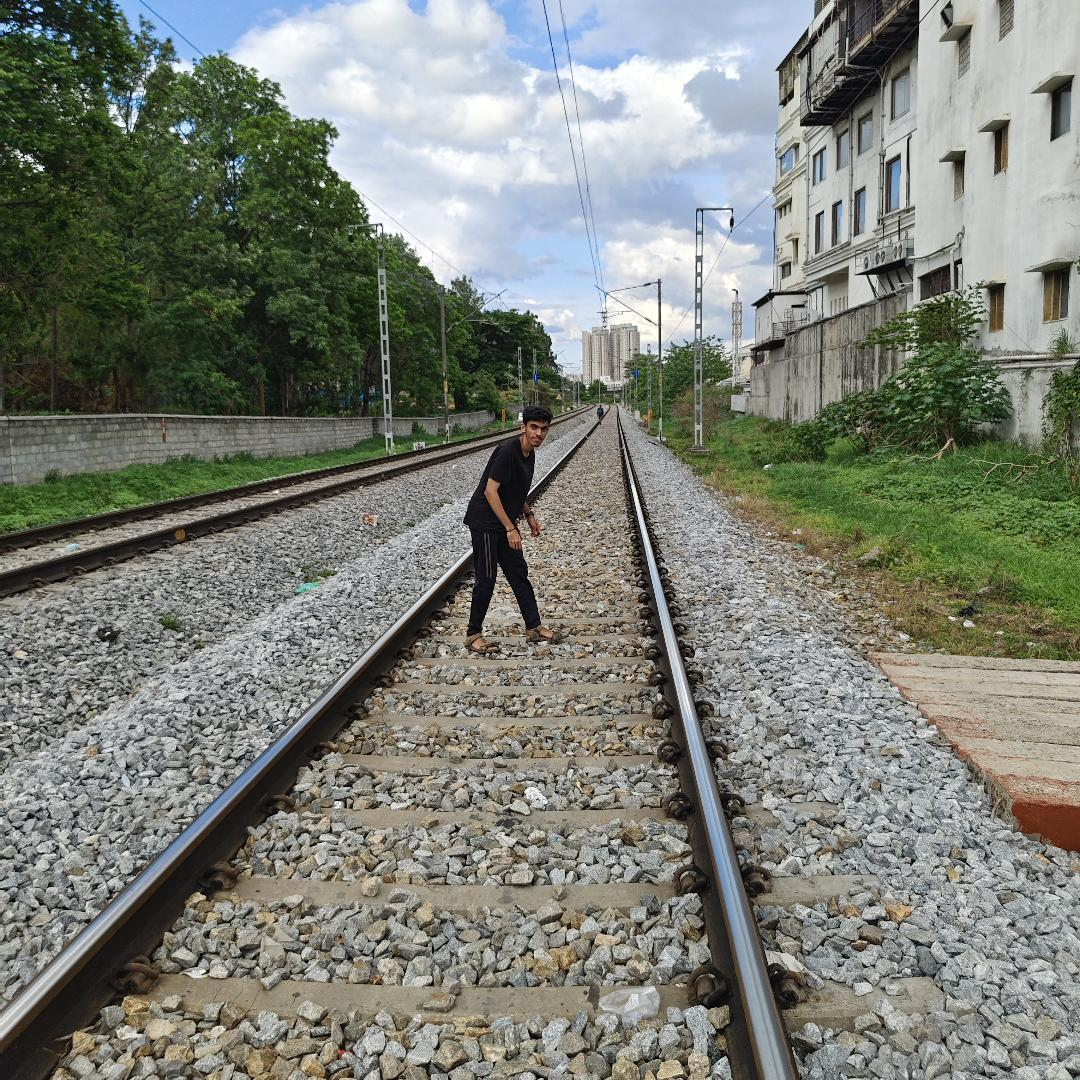standing: (454, 402, 564, 659)
